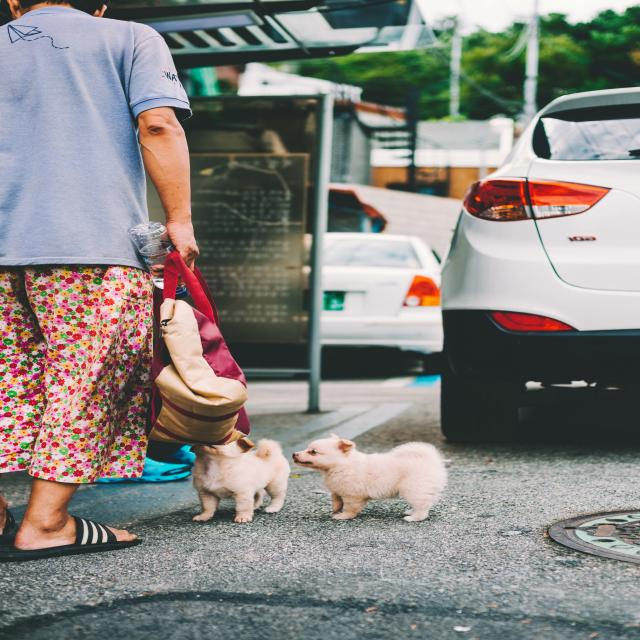adult: (0, 0, 196, 554)
